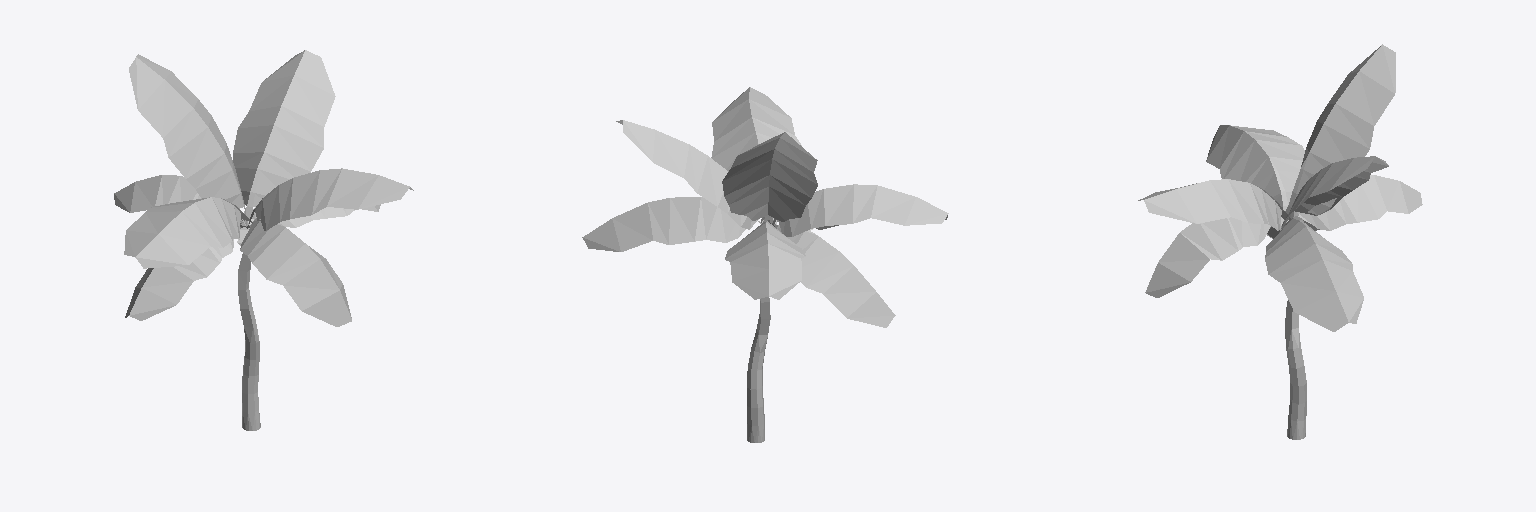
File: coconut palm 04_lod3.obj
3 renders of one model, left to right at view 1: azimuth 30°, elevation 25°; view 2: azimuth 150°, elevation 25°; view 3: azimuth 270°, elevation 25°, orthographic.
Parts seen in each view (by area): view 1: tree; view 2: tree; view 3: tree.
Boxes of the visible parts, x1,y1,x2,y2 form: tree: [114, 50, 413, 430]; tree: [582, 87, 948, 442]; tree: [1138, 44, 1422, 439].
Bounding box in the file's own units: 374 × 416 × 302.